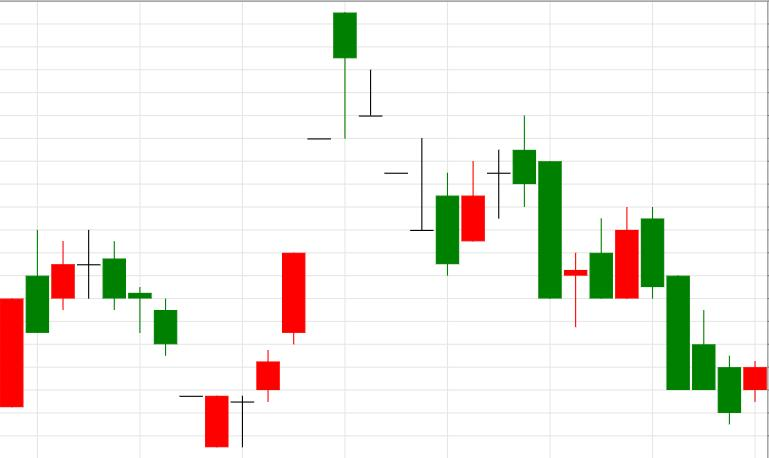hanging_man_fall: (206, 12, 357, 448)
